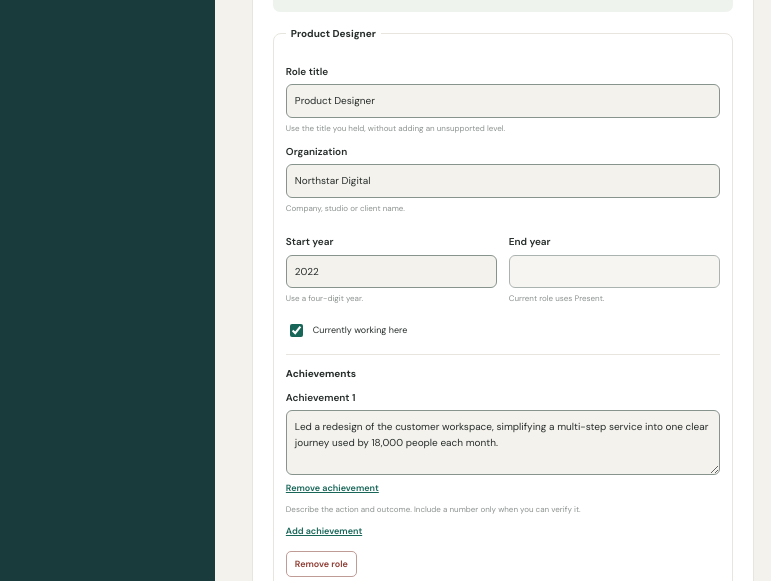
Forma experience editor › validates date order, links the field error and focuses the first invalid year
(page scrolled)
Expected: the number field labelled "End year" is disabled, [509,255,720,288]
Click the checkbox named "Currently working here — Product Designer" at {"x": 296, "y": 331}, box [290,324,303,337]
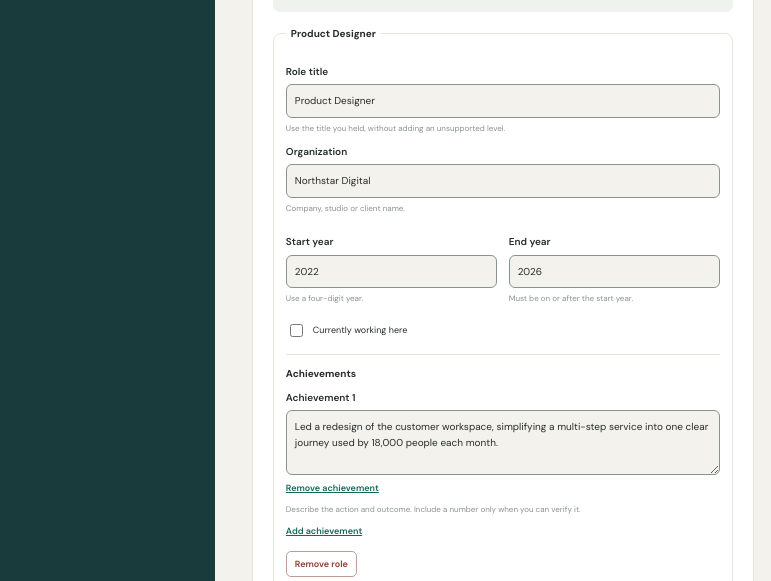
Now the number field labelled "End year" is enabled
Replace the text in the number field labelled "End year" with "2018" at {"x": 614, "y": 271}, box [509,255,720,288]
(page scrolled)
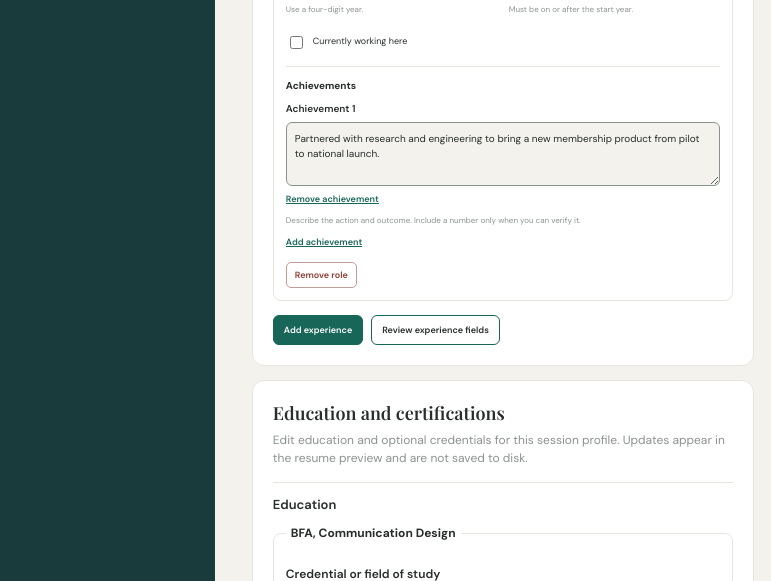
Click the button "Review experience fields" at {"x": 436, "y": 330}, box [371,315,500,345]
(page scrolled)
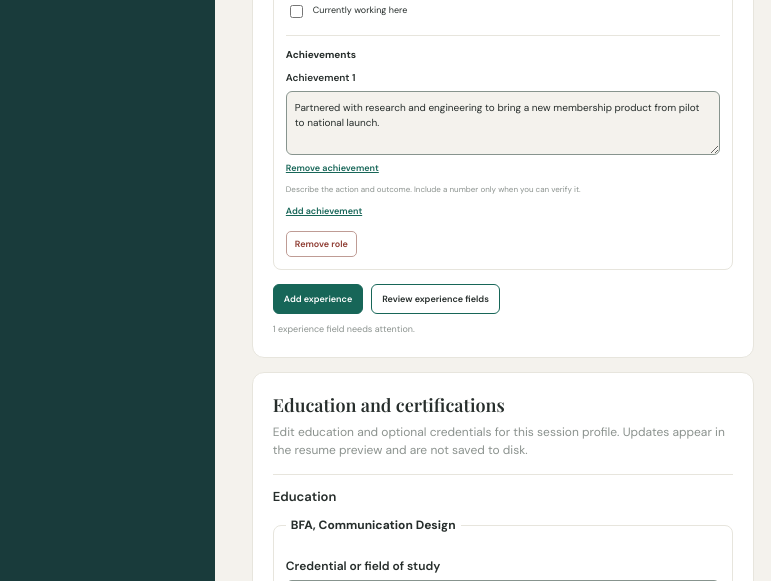
Now the message reads "1 experience field needs attention.", box [273,323,415,335]
